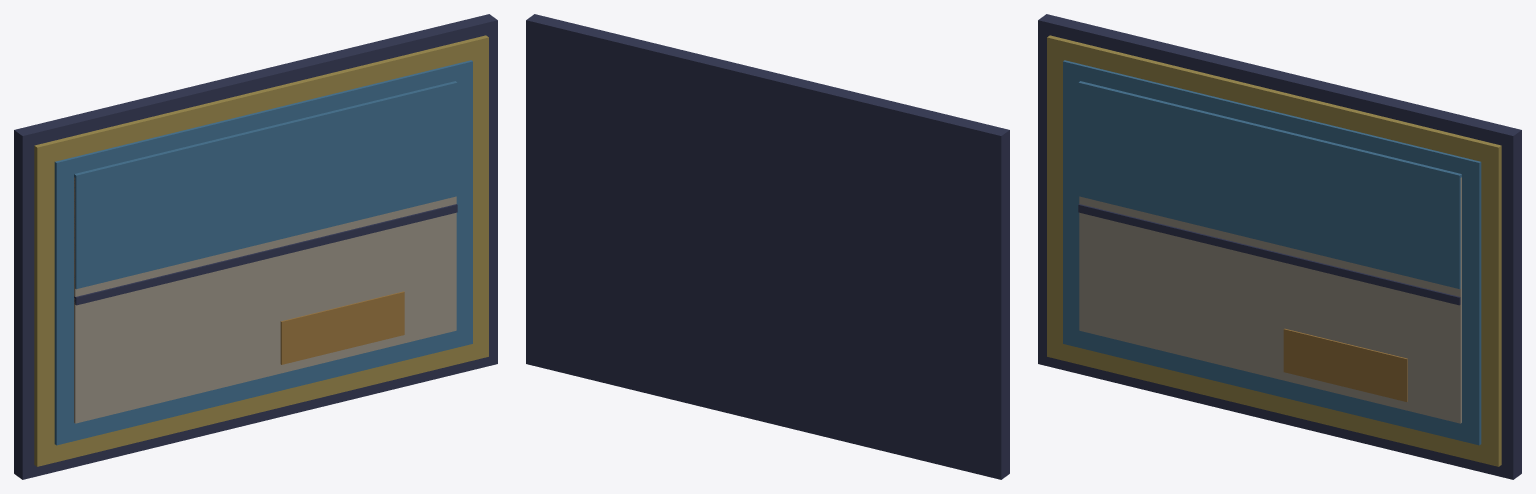
File: painel_quiz_final.glb
The picture shows the model from 3 angles, left to right: view 1: azimuth 30°, elevation 25°; view 2: azimuth 150°, elevation 25°; view 3: azimuth 330°, elevation 25°; orthographic projection.
Visible parts, largest first — view 1: Moldura_0; view 2: Moldura_0; view 3: Moldura_0.
Part boxes in pixels (bbox=[...]): Moldura_0: bbox=[14, 14, 497, 479]; Moldura_0: bbox=[526, 14, 1009, 479]; Moldura_0: bbox=[1038, 14, 1521, 479].
Bounding box in the file's own units: 1.62 × 1.12 × 0.0905.
